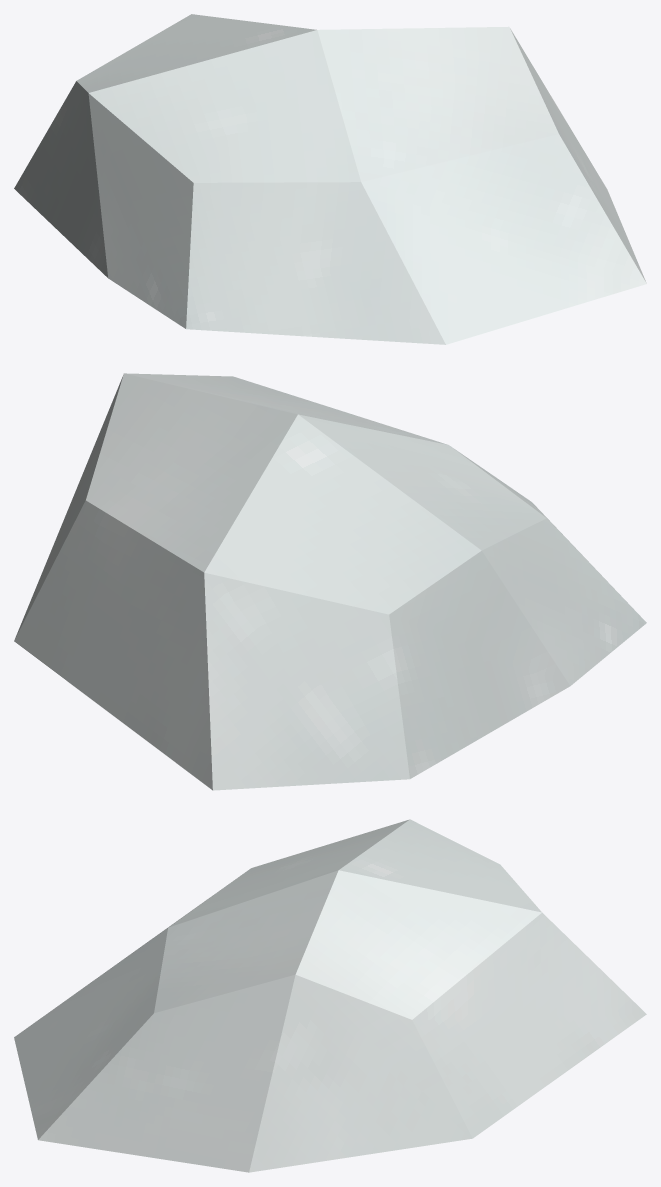
Rendered from snow.glb.
3 views of the same model, one above another, from view 1: azimuth 30°, elevation 25°; view 2: azimuth 150°, elevation 25°; view 3: azimuth 270°, elevation 25° (orthographic). The views are drawn at different scales.
Parts seen in each view (by area): view 1: snow_pile.004; view 2: snow_pile.004; view 3: snow_pile.004.
Boxes of the visible parts, <box> form: snow_pile.004: <box>14,14,646,344</box>; snow_pile.004: <box>14,373,646,790</box>; snow_pile.004: <box>14,819,646,1172</box>.
Size of the model in its own units: 4.48 by 1.71 by 5.34.
Materials: 1 (1 with a texture image).
